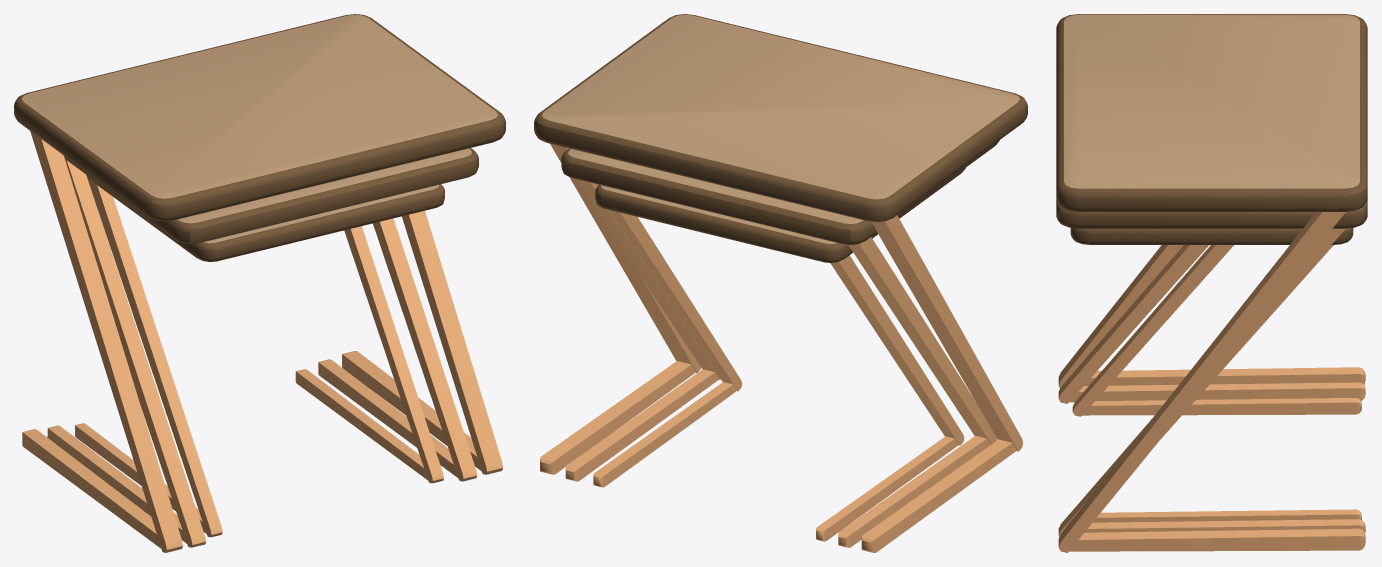
The model's file is Z-Table.fbx.
The picture shows the model from 3 angles, left to right: view 1: azimuth 30°, elevation 25°; view 2: azimuth 150°, elevation 25°; view 3: azimuth 270°, elevation 25°; orthographic projection. The views are drawn at different scales.
Parts seen in each view (by area): view 1: Z Table3, Z Table2, Z Table1; view 2: Z Table3, Z Table2, Z Table1; view 3: Z Table3, Z Table2, Z Table1.
Boxes of the visible parts, box(x1,y1,x2,y2) form: Z Table3: box(14, 14, 505, 552); Z Table2: box(47, 148, 478, 547); Z Table1: box(75, 175, 444, 537); Z Table3: box(534, 14, 1027, 552); Z Table2: box(561, 140, 999, 547); Z Table1: box(593, 168, 965, 541); Z Table3: box(1056, 14, 1367, 552); Z Table2: box(1056, 199, 1367, 536); Z Table1: box(1070, 228, 1361, 522).
Size of the model in its own units: 1.49 by 1.42 by 1.09.
